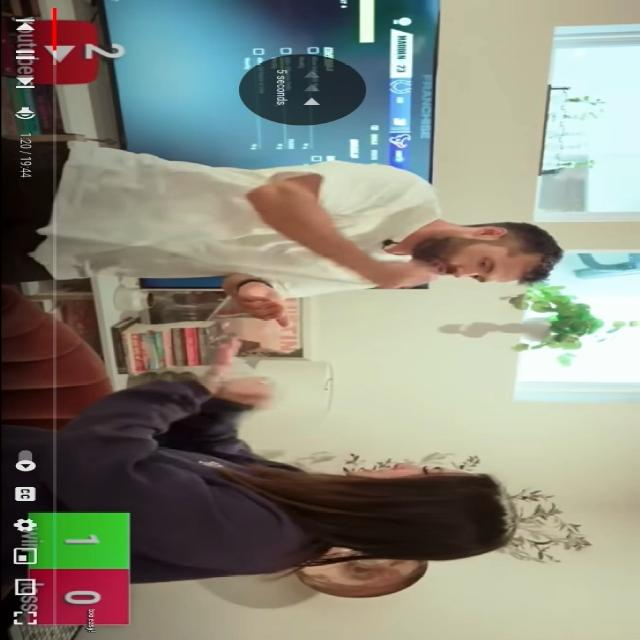Rock: (356, 262, 434, 290), (214, 380, 276, 408)
